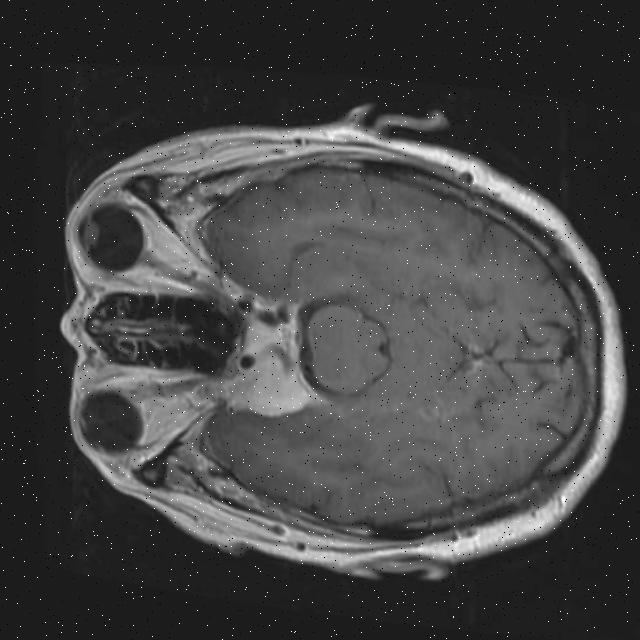Meningioma: (223, 347, 314, 421)
